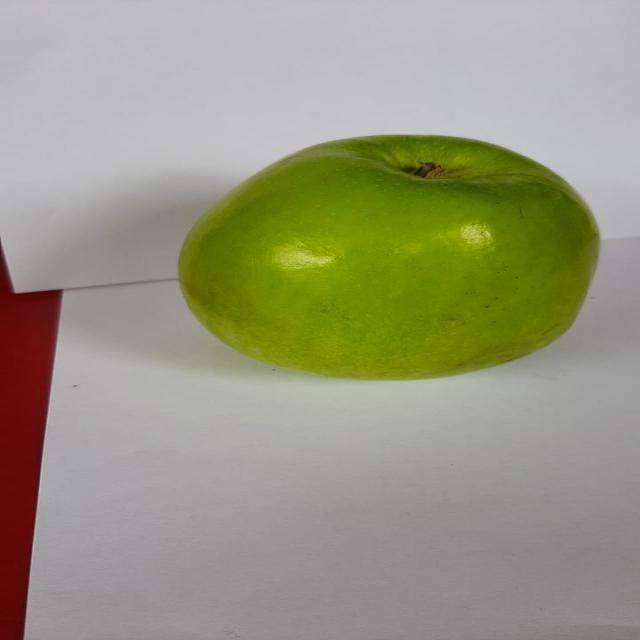50-_ripeness: (154, 128, 610, 390)
